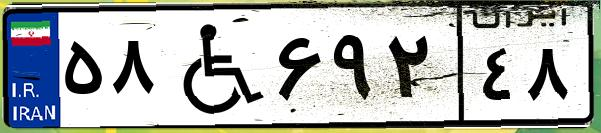2: (385, 28, 445, 110)
4: (475, 38, 525, 113)
5: (57, 26, 110, 100)
6: (270, 28, 330, 110)
8: (525, 38, 570, 115), (110, 28, 158, 98)
9: (330, 28, 385, 110)
ژ (معلولین و جانبازان): (158, 12, 270, 120)
